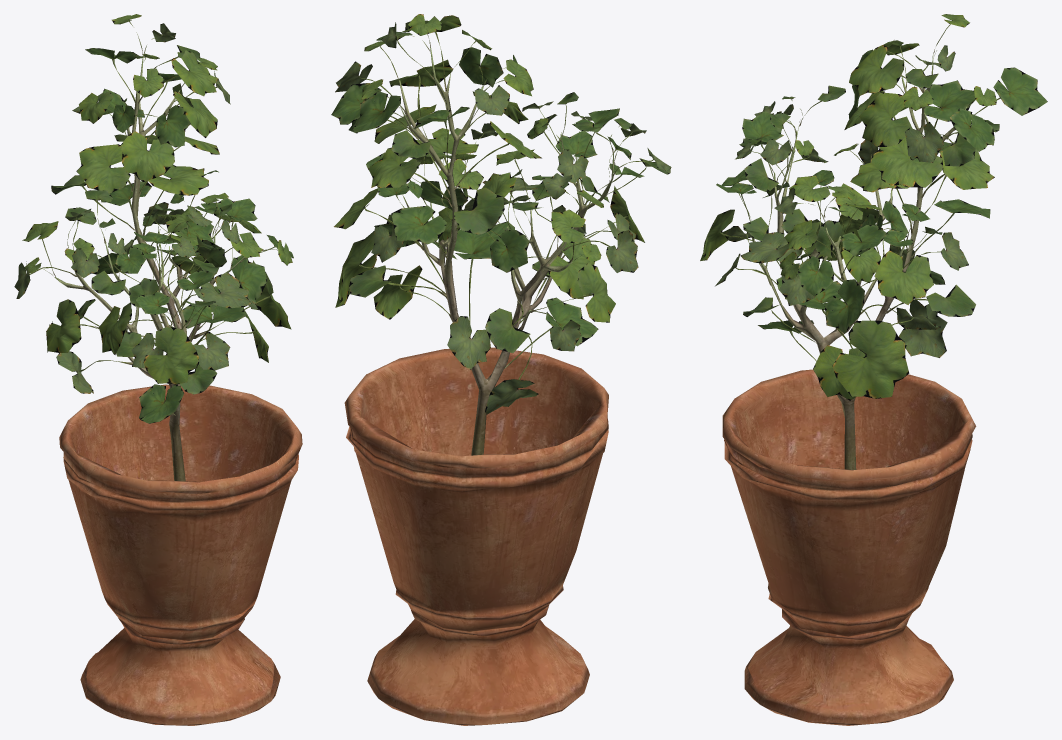
Rendered from potted_plant_01.glb.
3 views of the same model, side by side, from view 1: azimuth 30°, elevation 25°; view 2: azimuth 150°, elevation 25°; view 3: azimuth 270°, elevation 25° (orthographic). The views are drawn at different scales.
Visible parts, largest first — view 1: pot, leaves; view 2: pot, leaves; view 3: pot, leaves.
Boxes of the visible parts, x1=… form: pot: x1=54, y1=54, x2=302, y2=725; leaves: x1=14, y1=14, x2=293, y2=423; pot: x1=344, y1=47, x2=613, y2=725; leaves: x1=331, y1=14, x2=671, y2=414; pot: x1=722, y1=54, x2=976, y2=725; leaves: x1=700, y1=14, x2=1047, y2=400.
Bounding box in the file's own units: 0.5858 × 1.34 × 0.6336.
Materials: 2 (2 with a texture image).
